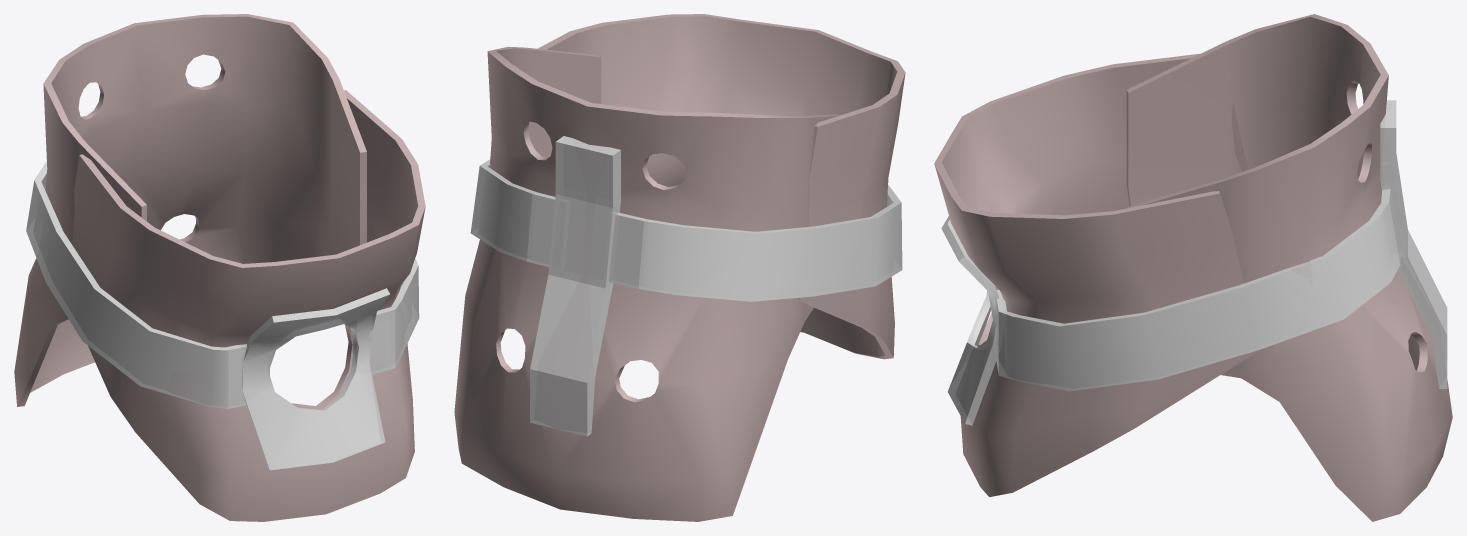
Rendered from jinhuan.fbx.
3 views of the same model, side by side, from view 1: azimuth 30°, elevation 25°; view 2: azimuth 150°, elevation 25°; view 3: azimuth 270°, elevation 25° (orthographic). The views are drawn at different scales.
Visible parts, largest first — view 1: jinhuan2, jinhuan1, jinhuan6, jinhuan3, jinhuan5; view 2: jinhuan2, jinhuan1, jinhuan6, jinhuan4, jinhuan5; view 3: jinhuan2, jinhuan1, jinhuan5, jinhuan4, jinhuan3.
Boxes of the visible parts, bbox=[...] form: jinhuan2: bbox=[14, 14, 366, 406]; jinhuan1: bbox=[71, 90, 425, 521]; jinhuan6: bbox=[26, 161, 269, 408]; jinhuan3: bbox=[241, 288, 390, 470]; jinhuan5: bbox=[352, 258, 419, 374]; jinhuan2: bbox=[454, 46, 840, 521]; jinhuan1: bbox=[538, 14, 905, 359]; jinhuan6: bbox=[604, 184, 902, 301]; jinhuan4: bbox=[530, 136, 620, 436]; jinhuan5: bbox=[470, 159, 569, 269]; jinhuan2: bbox=[1126, 14, 1452, 521]; jinhuan1: bbox=[934, 53, 1256, 496]; jinhuan5: bbox=[996, 186, 1401, 391]; jinhuan4: bbox=[1380, 100, 1447, 388]; jinhuan3: bbox=[941, 216, 1004, 425].
Size of the model in its own units: 11.4 by 12.17 by 14.98.
